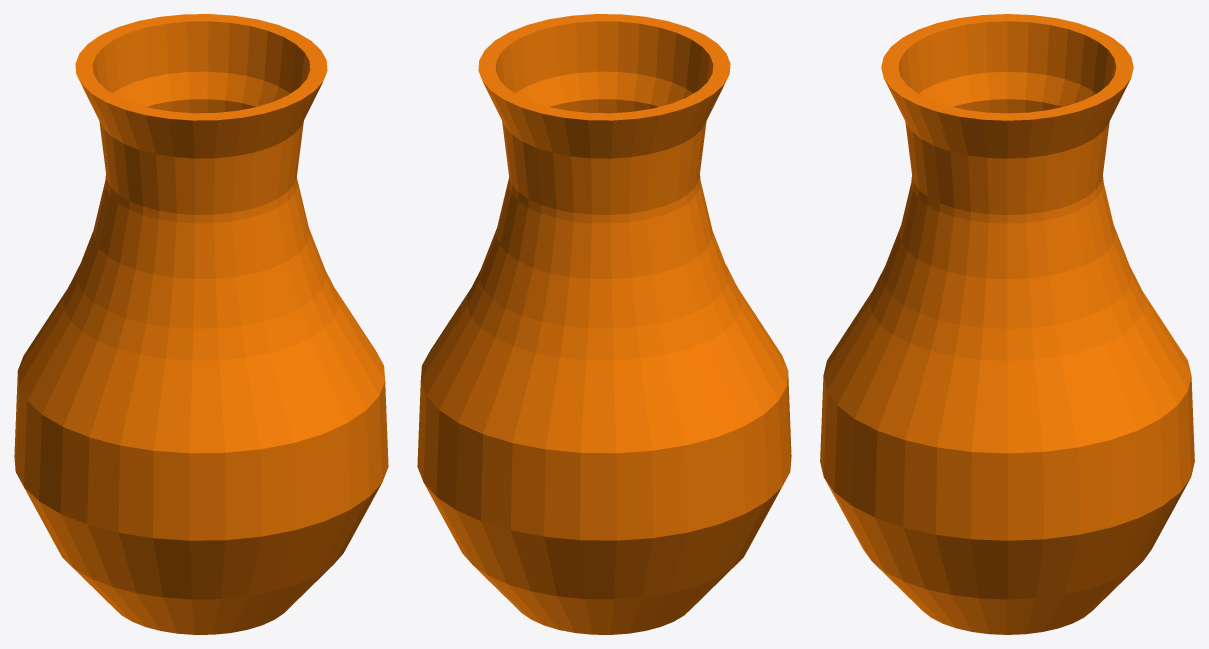
File: vase.fbx
3 views of the same model, side by side, from view 1: azimuth 30°, elevation 25°; view 2: azimuth 150°, elevation 25°; view 3: azimuth 270°, elevation 25° (orthographic).
Parts seen in each view (by area): view 1: vase; view 2: vase; view 3: vase.
Boxes of the visible parts, left/top/right/bottom form: vase: left=14, top=14, right=388, bottom=634; vase: left=417, top=14, right=791, bottom=634; vase: left=820, top=14, right=1194, bottom=634.
Bounding box in the file's own units: 35.3 × 54.96 × 35.3.
